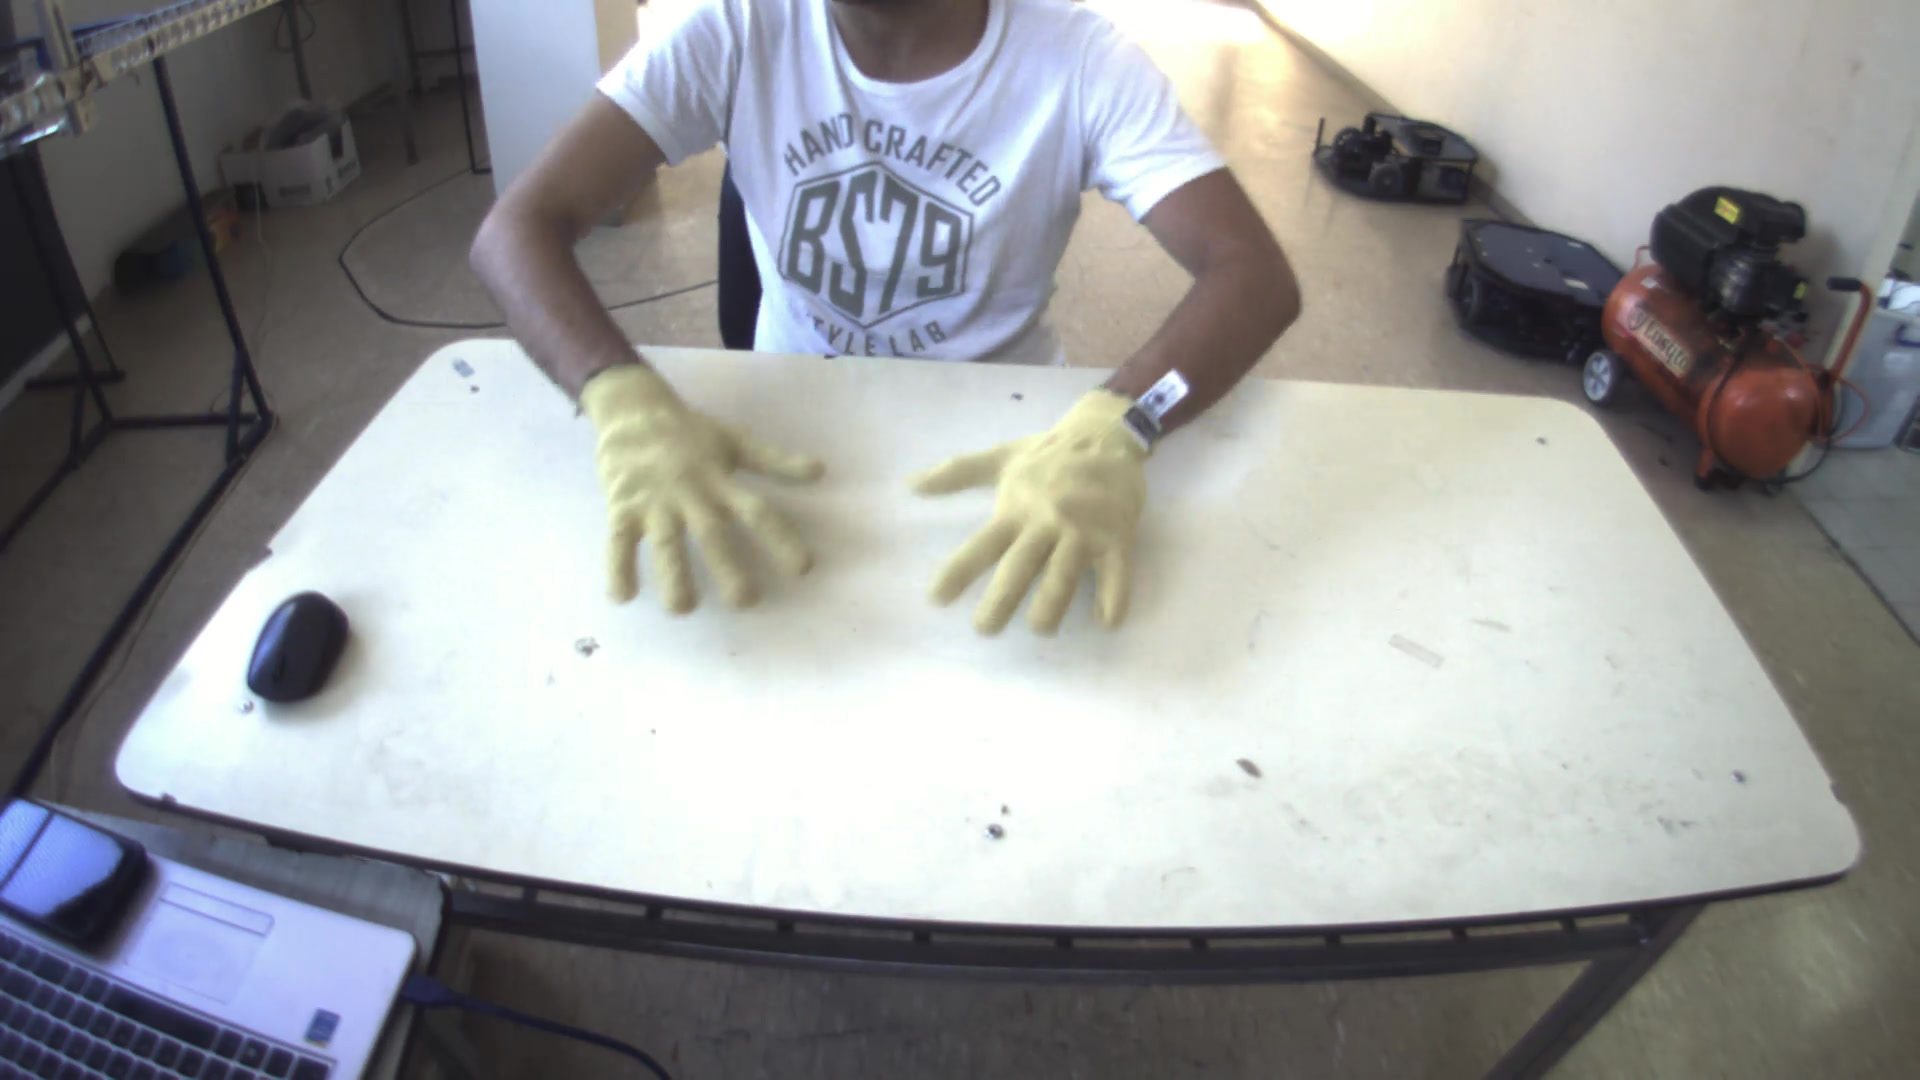hand: (903, 380, 1185, 644), (564, 343, 822, 618)
